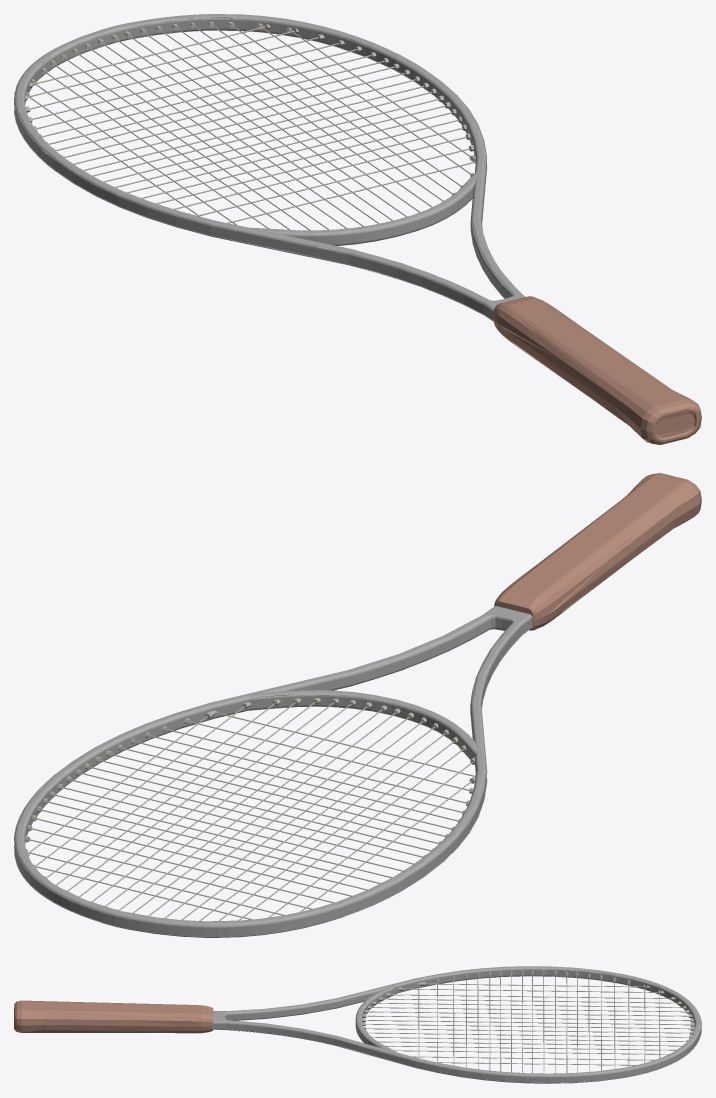
Rendered from sweethome3d-blendswap-cc-0-tennis-racket.glb.
3 renders of one model, top to bottom at view 1: azimuth 30°, elevation 25°; view 2: azimuth 150°, elevation 25°; view 3: azimuth 270°, elevation 25°, orthographic. The views are drawn at different scales.
Visible parts, largest first — view 1: rack.001_arch27_004.001, wire.001_arch27_003.001, holder.001_arch27_005.001; view 2: rack.001_arch27_004.001, wire.001_arch27_003.001, holder.001_arch27_005.001; view 3: rack.001_arch27_004.001, wire.001_arch27_003.001, holder.001_arch27_005.001.
Part boxes in pixels (x1,y1,x2,y2): rack.001_arch27_004.001: [14, 14, 525, 321]; wire.001_arch27_003.001: [25, 21, 475, 230]; holder.001_arch27_005.001: [493, 296, 701, 444]; rack.001_arch27_004.001: [14, 606, 532, 937]; wire.001_arch27_003.001: [25, 698, 475, 920]; holder.001_arch27_005.001: [494, 473, 701, 630]; rack.001_arch27_004.001: [212, 966, 701, 1083]; wire.001_arch27_003.001: [362, 971, 694, 1073]; holder.001_arch27_005.001: [14, 1000, 213, 1033].
Bounding box in the file's own units: 26.04 × 2.89 × 68.46.
